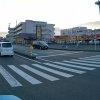crosswalks: (0, 59, 100, 90)
